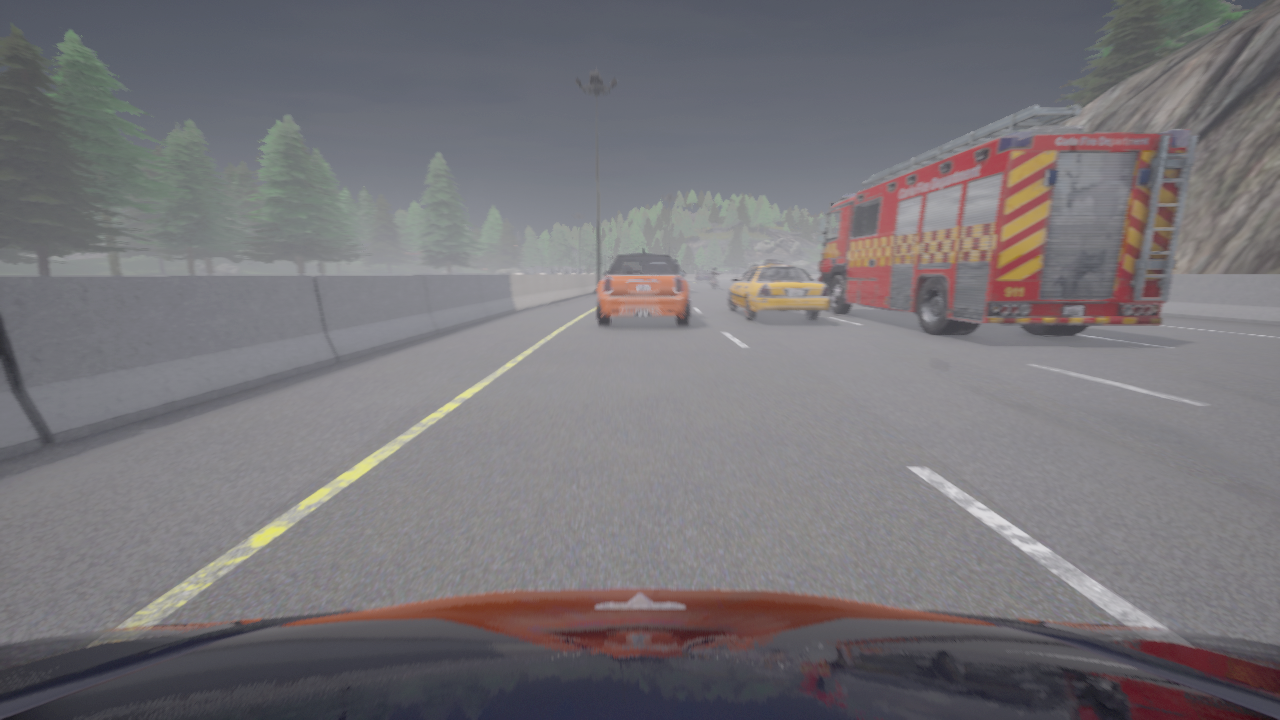cyclist: (0, 588, 1279, 719), (816, 106, 1196, 335), (597, 248, 688, 325), (728, 260, 829, 321), (696, 271, 711, 282), (672, 260, 680, 270), (711, 279, 716, 289), (752, 264, 762, 266)
